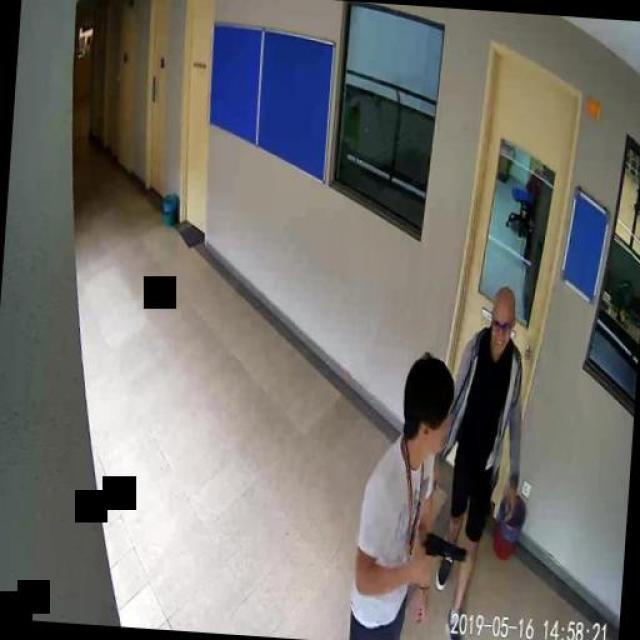gun: (420, 530, 466, 590)
